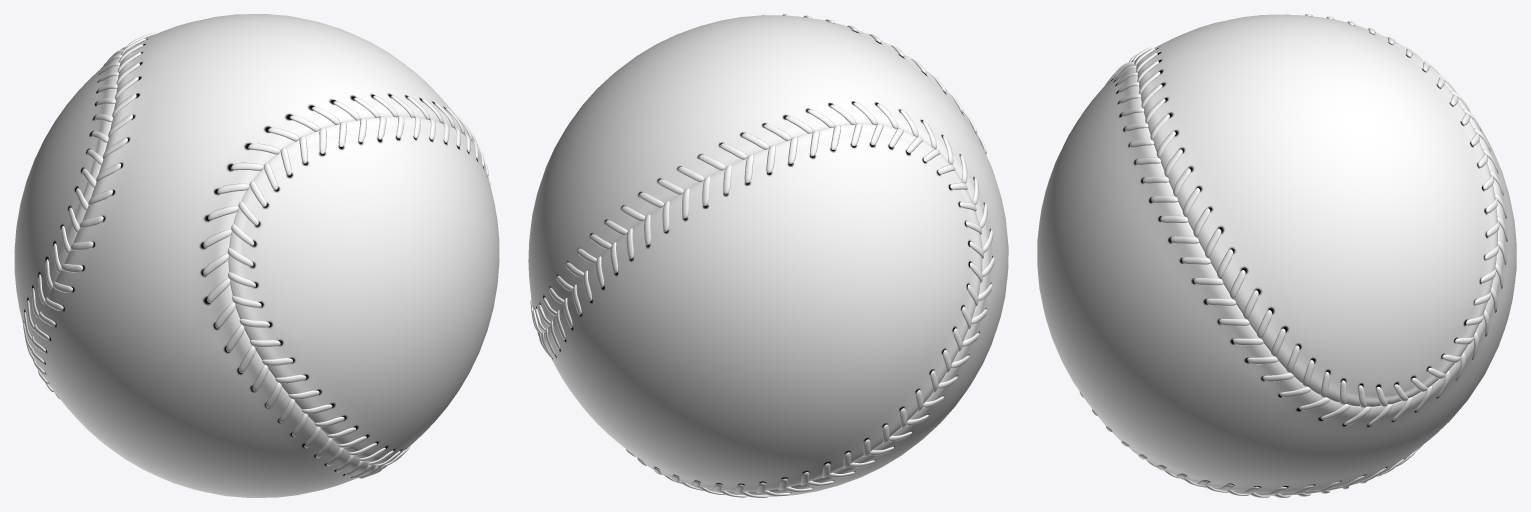
The model's file is ballball.glb.
3 renders of one model, left to right at view 1: azimuth 30°, elevation 25°; view 2: azimuth 150°, elevation 25°; view 3: azimuth 270°, elevation 25°, orthographic.
Parts seen in each view (by area): view 1: baseball.001; view 2: baseball.001; view 3: baseball.001.
Boxes of the visible parts, box(x1,y1,x2,y2) form: baseball.001: box(14, 14, 499, 497); baseball.001: box(528, 14, 1008, 497); baseball.001: box(1037, 14, 1516, 497).
Bounding box in the file's own units: 0.8621 × 0.8436 × 0.8442.
2 materials, 1 textured.
